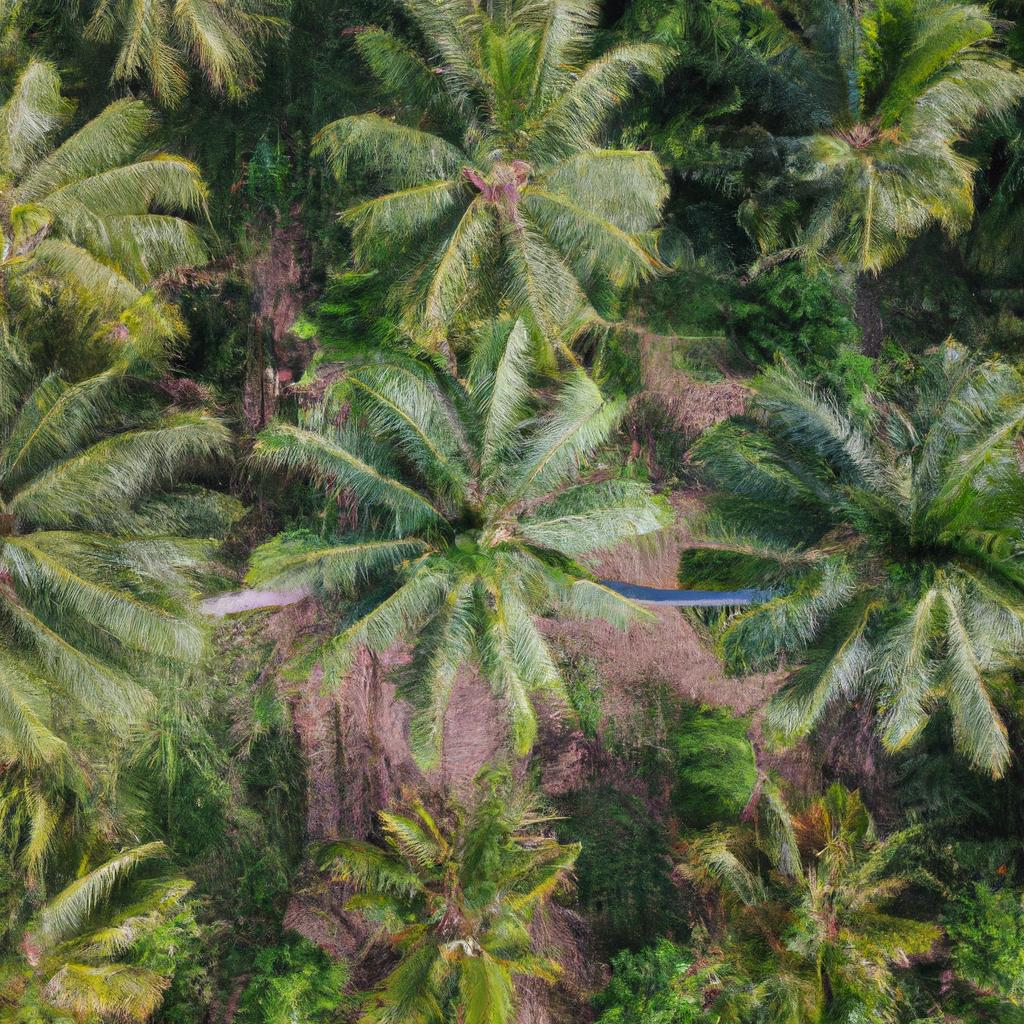coconut_tree: (235, 328, 705, 762), (305, 1, 738, 348), (693, 337, 1023, 783), (276, 759, 585, 1020), (644, 786, 963, 1023), (741, 0, 1012, 274)
